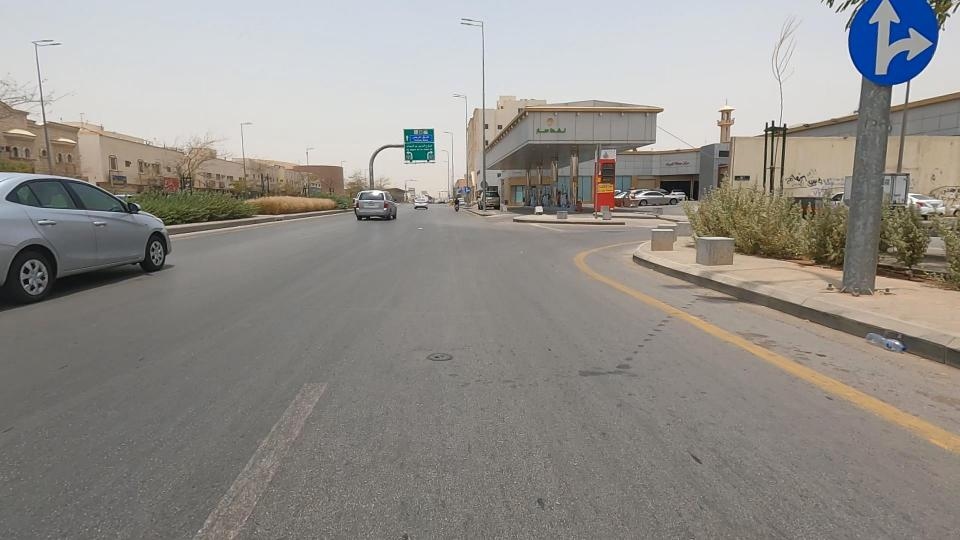GARBAGE: (818, 297, 942, 376)
